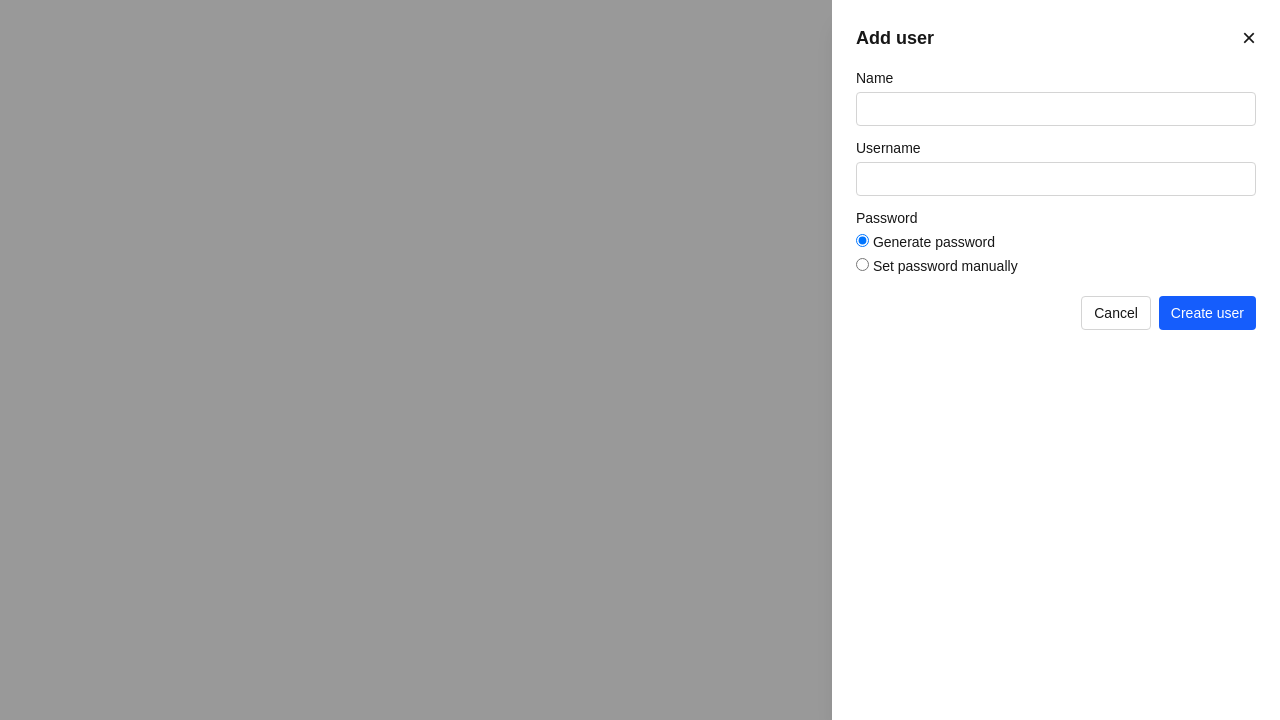
Test: AddUserSlideOver › displays fieldErrors when action returns them
Type "Alice" into the field labelled "Name". click: (1056, 109)
box: [856,92,1256,126]
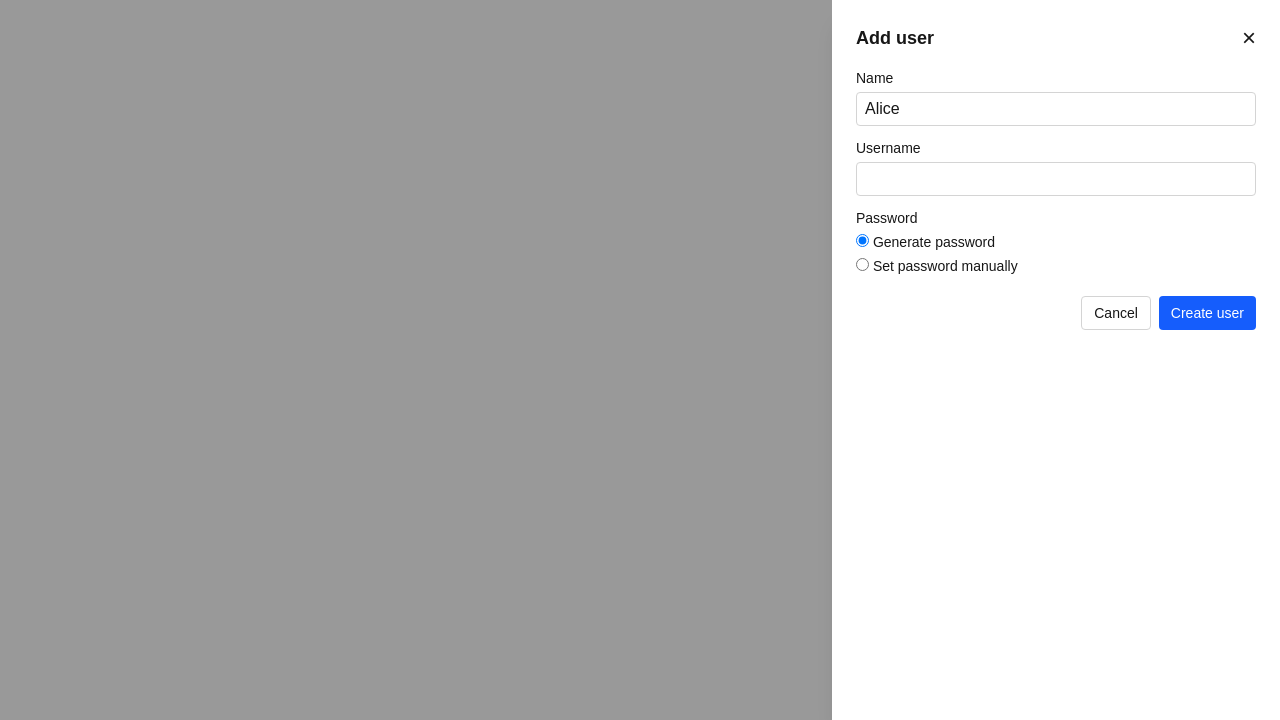
Type "alice" into the field labelled "Username". click: (1056, 179)
box: [856,162,1256,196]
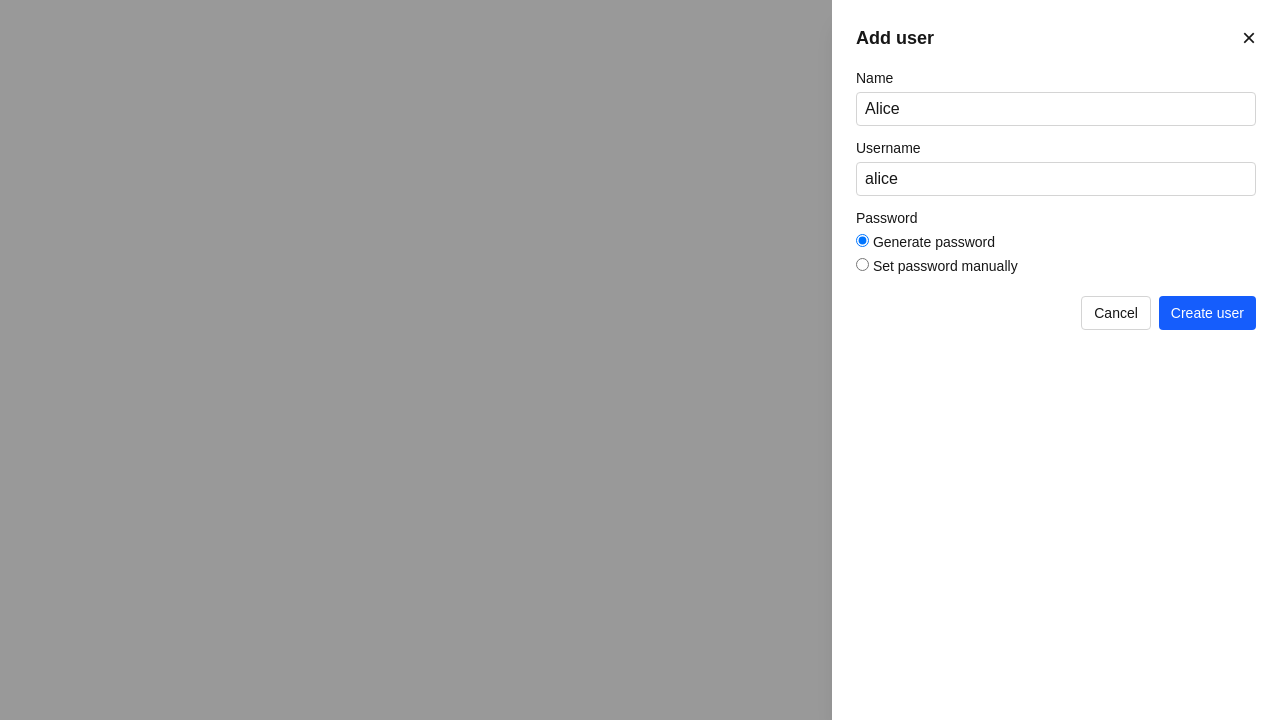
Click the button "Create user". click: (1207, 313)
box: [1159,296,1256,330]
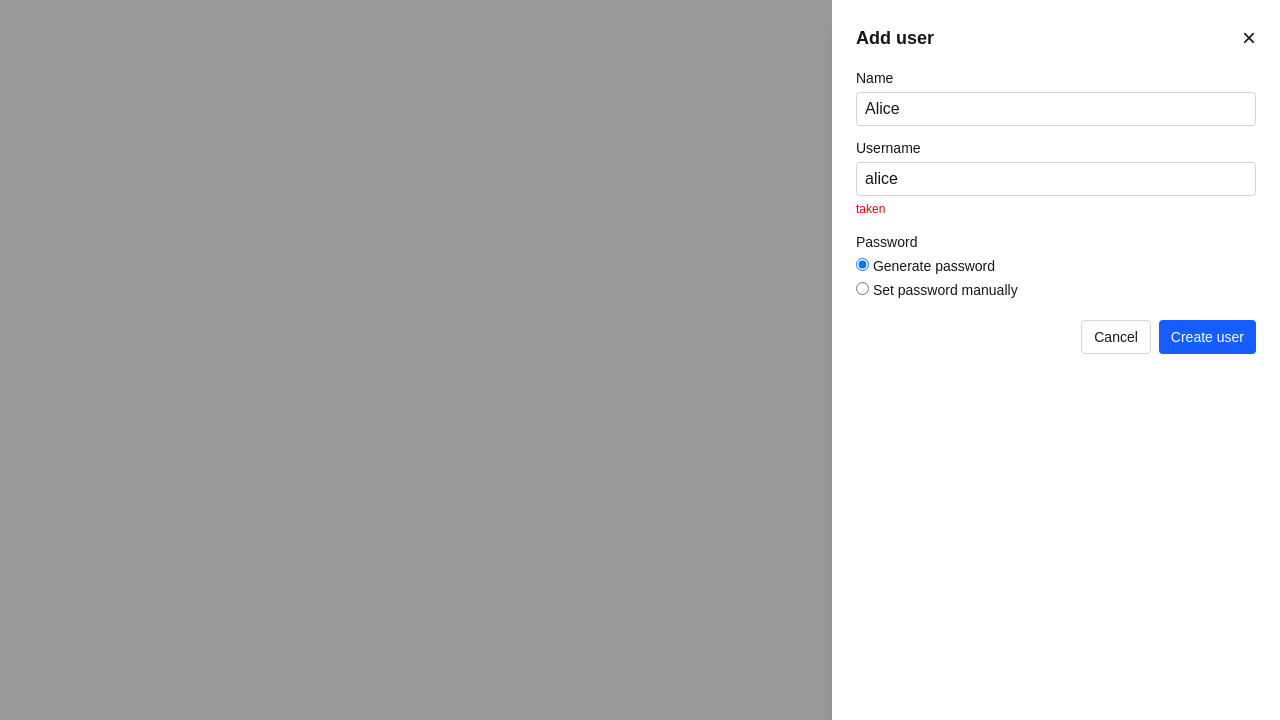
Expected: the text "taken" is shown, [856,202,885,216]
